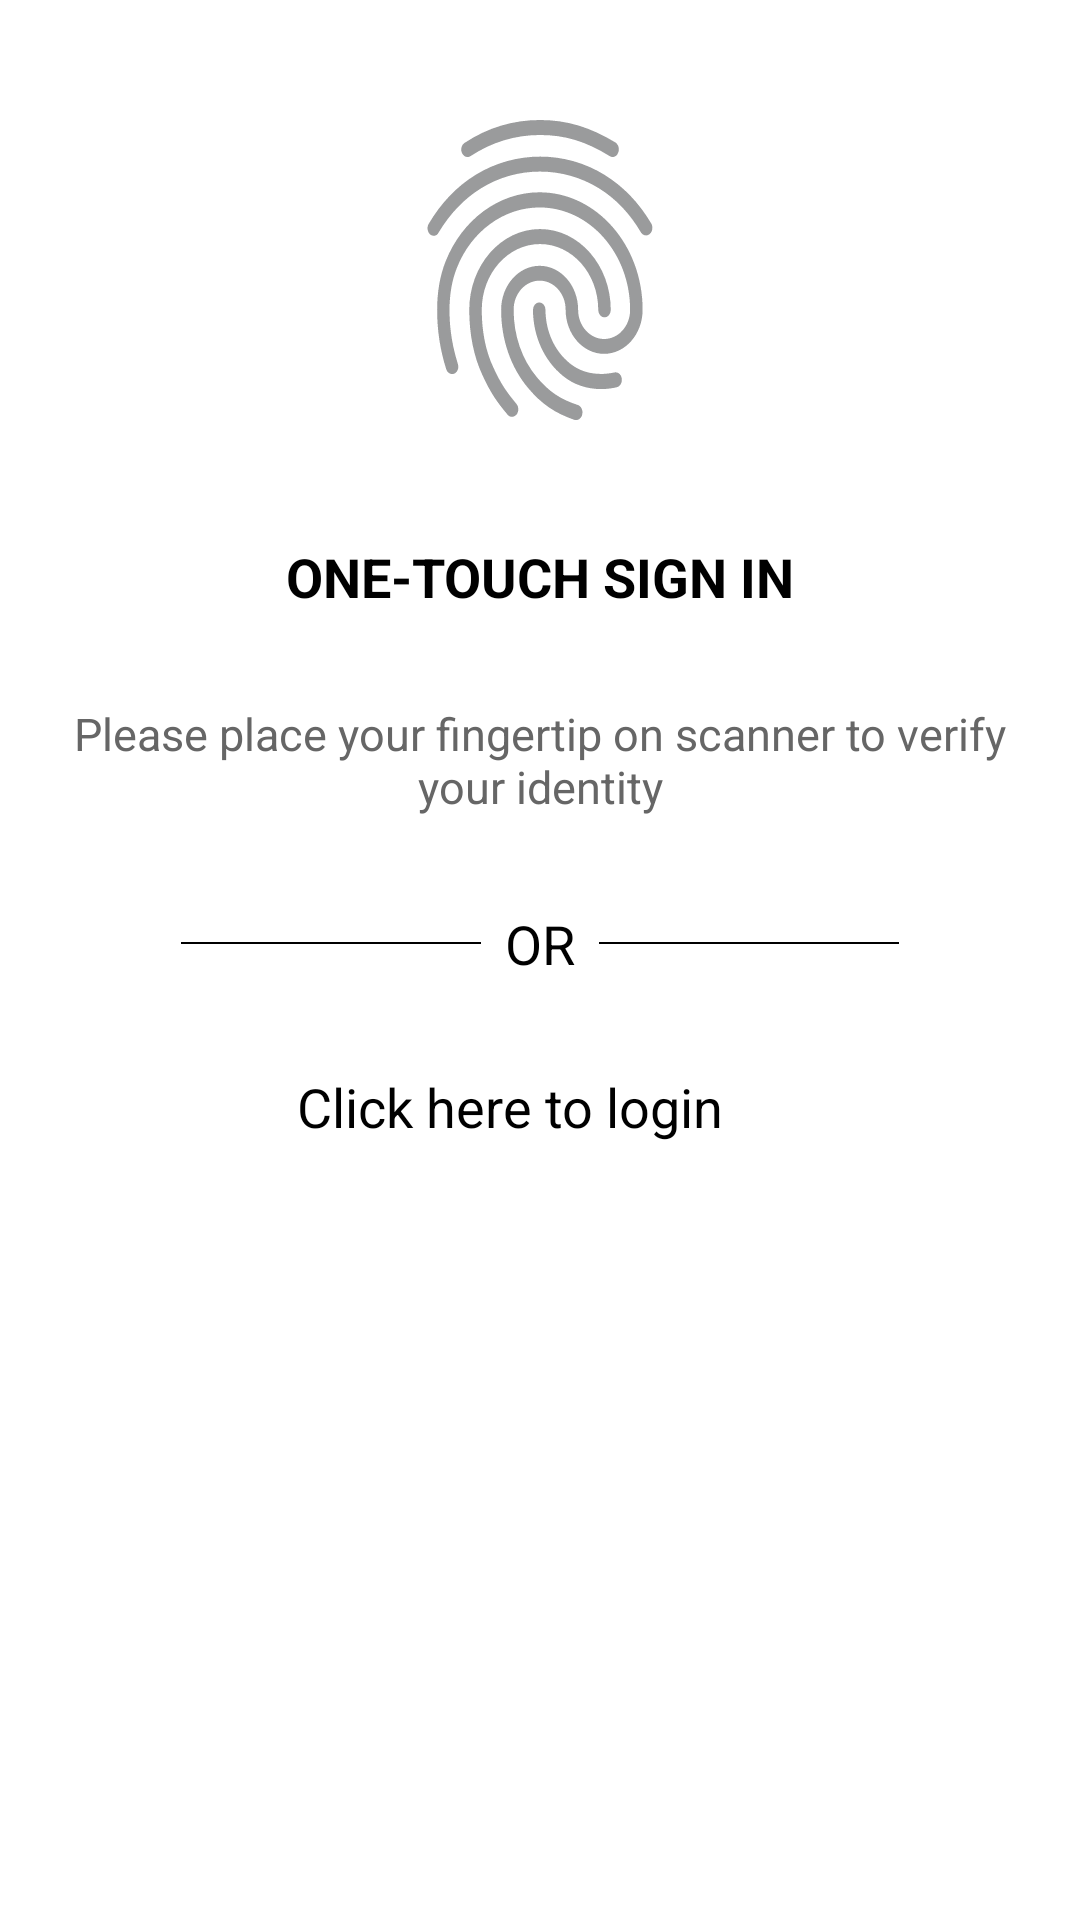

Where icons sit on this 1080px x 1920px app screen, as (x1, y1, x2, y2):
fingerprint: (427, 120, 653, 420)
